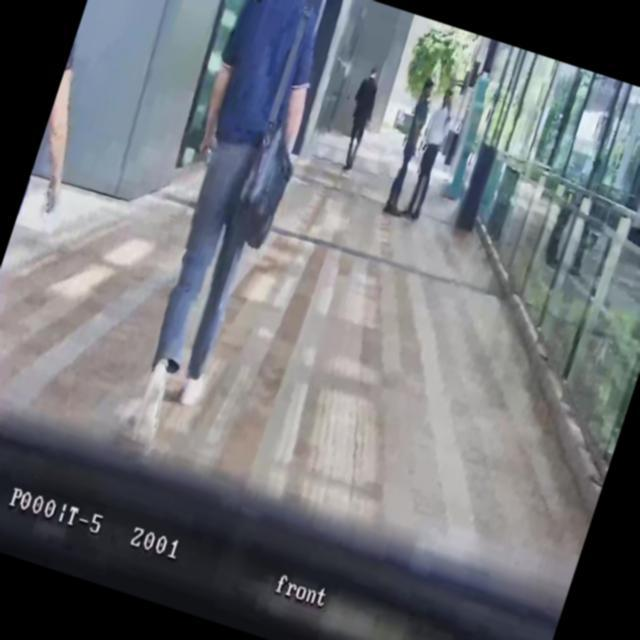person: (109, 0, 348, 430), (0, 35, 109, 416), (398, 85, 462, 223), (380, 78, 440, 216), (332, 63, 388, 174)
